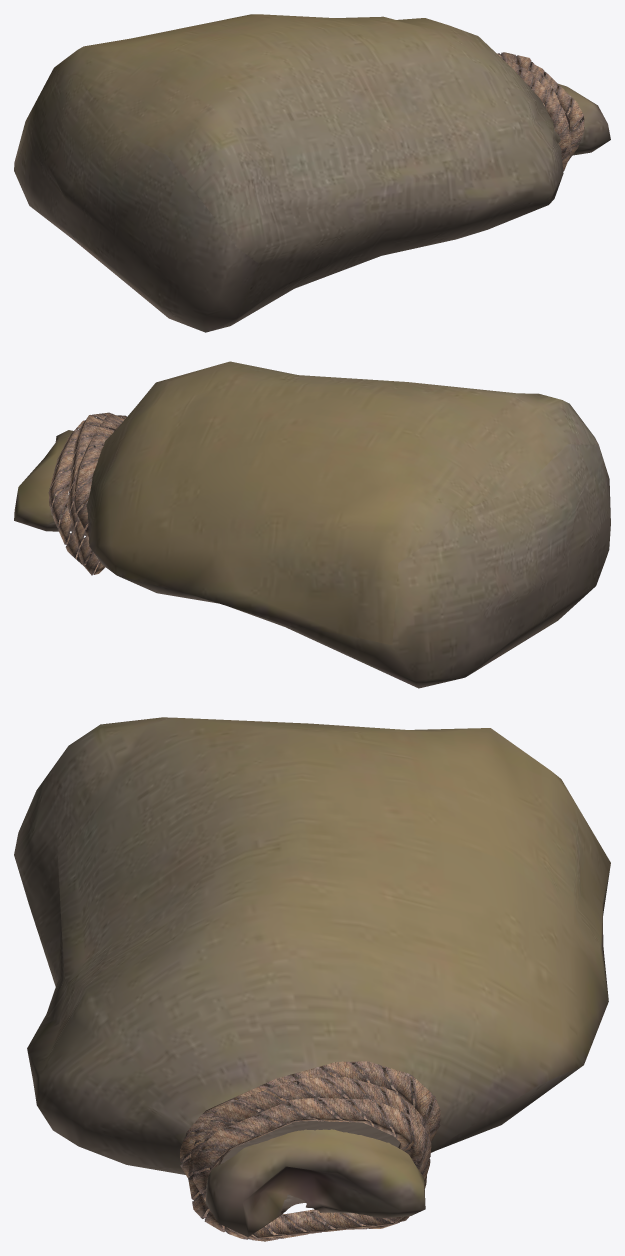
The picture shows the model from 3 angles, top to bottom: view 1: azimuth 30°, elevation 25°; view 2: azimuth 150°, elevation 25°; view 3: azimuth 270°, elevation 25°; orthographic projection. The views are drawn at different scales.
Visible parts, largest first — view 1: SM_ClosedSack_02_LOD0; view 2: SM_ClosedSack_02_LOD0; view 3: SM_ClosedSack_02_LOD0.
Boxes of the visible parts, bbox=[...] form: SM_ClosedSack_02_LOD0: bbox=[14, 14, 610, 332]; SM_ClosedSack_02_LOD0: bbox=[14, 361, 610, 688]; SM_ClosedSack_02_LOD0: bbox=[14, 717, 610, 1241].
Size of the model in its own units: 0.8437 by 0.3597 by 0.6071.
2 materials, 2 textured.
